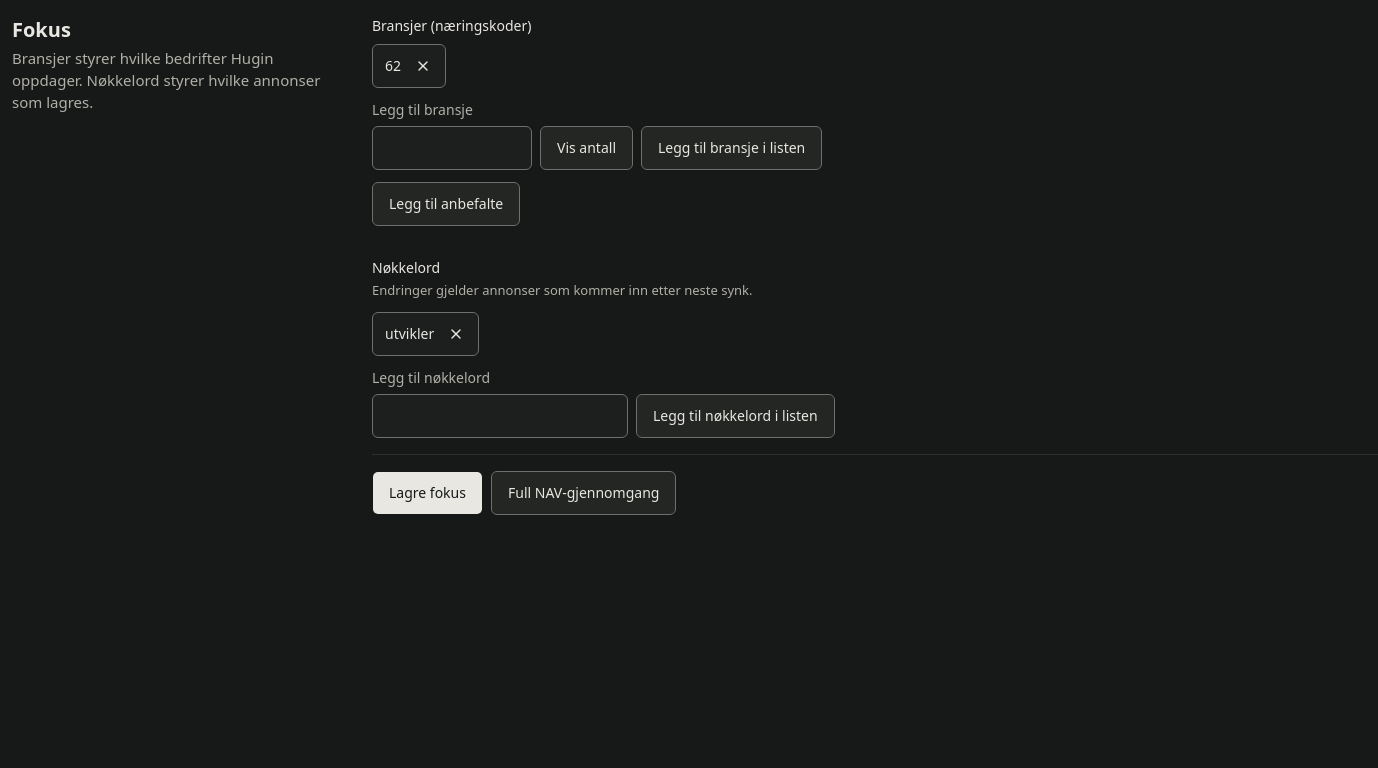
it: FocusSection › previews a code before adding it, and announces the count
Type "63" into the field labelled "Legg til bransje" at (452, 148), box top-left (372, 126), bottom-right (532, 170)
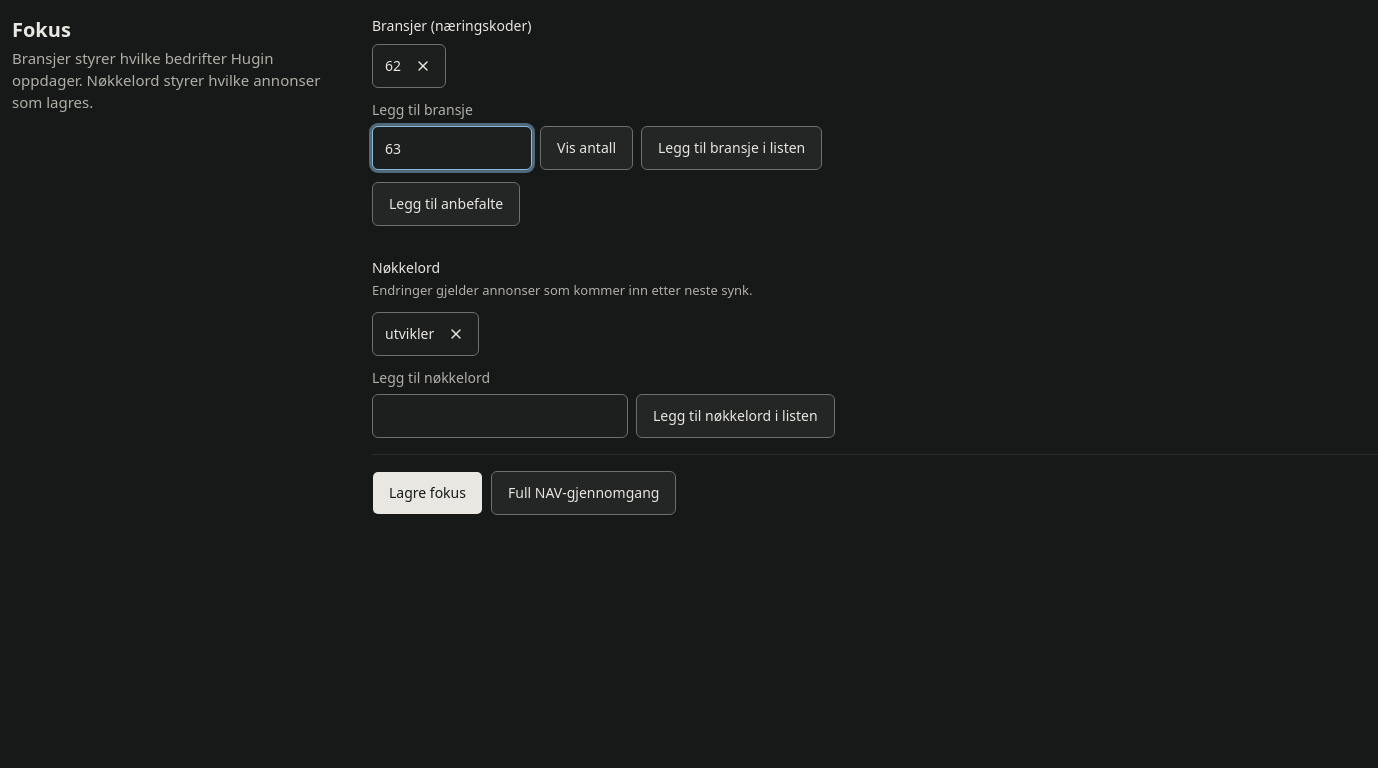
Click the button "Vis antall" at (586, 148), box top-left (540, 126), bottom-right (633, 170)
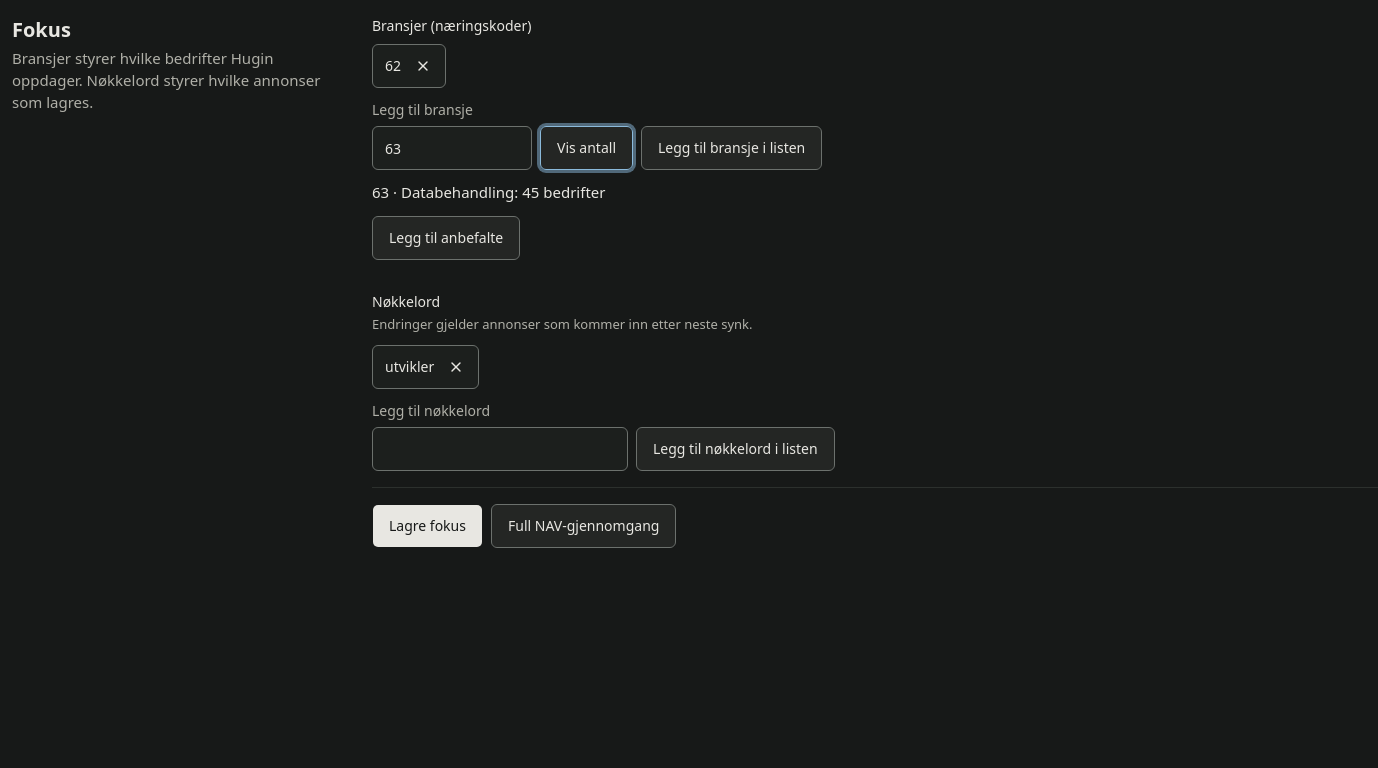
Now the text "63 · Databehandling: 45 bedrifter" is shown, box top-left (372, 182), bottom-right (606, 202)
